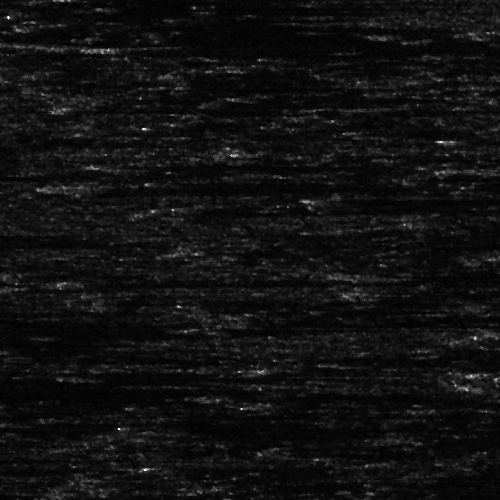object: (15, 38, 202, 55), (263, 192, 356, 205), (159, 203, 222, 214), (164, 323, 227, 332), (197, 391, 260, 398), (39, 104, 92, 111), (104, 161, 157, 168), (13, 0, 106, 1)
shadow: (109, 38, 457, 55), (0, 390, 135, 411), (310, 192, 482, 205), (191, 203, 359, 214), (130, 161, 385, 168), (228, 391, 480, 398), (196, 323, 363, 332), (0, 491, 99, 500), (88, 185, 338, 188), (66, 104, 150, 111), (0, 308, 89, 313), (60, 0, 146, 1)
